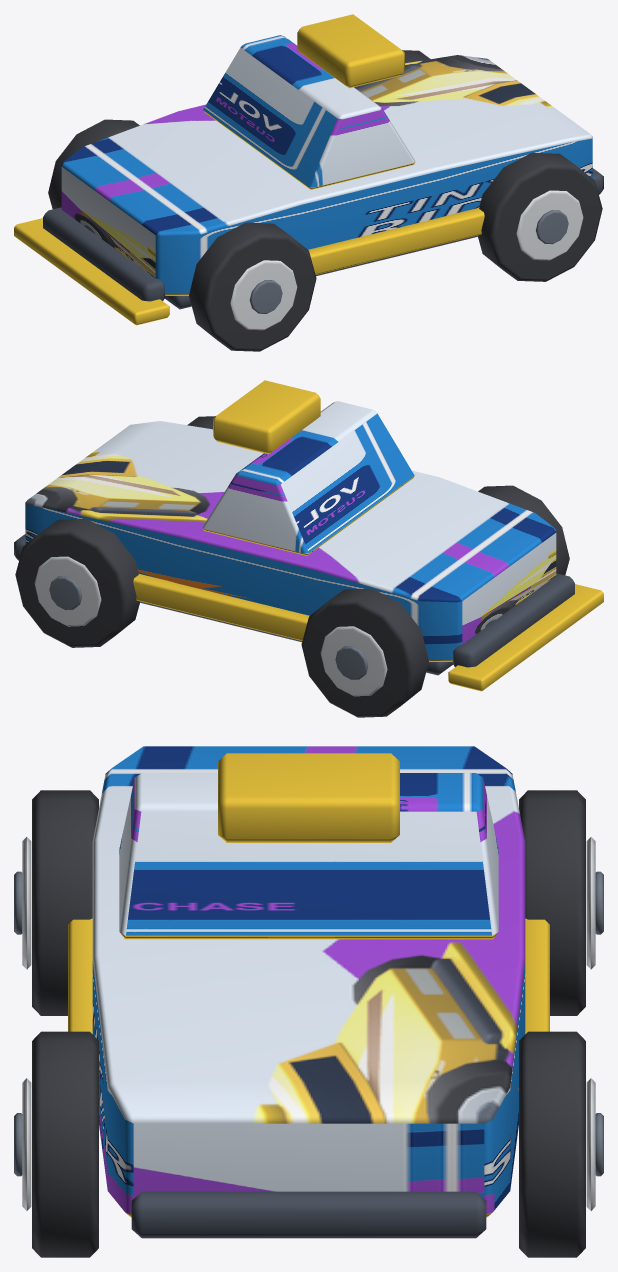
3 renders of one model, top to bottom at view 1: azimuth 30°, elevation 25°; view 2: azimuth 150°, elevation 25°; view 3: azimuth 270°, elevation 25°, orthographic. The views are drawn at different scales.
Parts seen in each view (by area): view 1: FF-03_connected_shell, FF-03_cabin, Tire, Tire.002, custom equipment, custom side guard, custom chin, front bumper, Rim.002, Rim, Tire.001, Hub.002 (+2 smaller); view 2: FF-03_connected_shell, FF-03_cabin, Tire.001, Tire.003, custom equipment, custom side guard.001, custom chin, front bumper, Rim.003, Rim.001, Tire, Hub.003 (+2 smaller); view 3: FF-03_connected_shell, FF-03_cabin, rear bumper, custom equipment, Tire.002, Tire.003, Tire, Tire.001, custom side guard, custom side guard.001, Rim.002, Rim.003 (+2 smaller).
Boxes of the visible parts, <box> form: FF-03_connected_shell: <box>61,55,592,295</box>; FF-03_cabin: <box>203,35,415,189</box>; Tire: <box>189,222,316,351</box>; Tire.002: <box>477,152,602,281</box>; custom equipment: <box>297,14,404,88</box>; custom side guard: <box>308,208,484,274</box>; custom chin: <box>14,218,169,325</box>; front bumper: <box>43,207,165,301</box>; Rim.002: <box>516,190,583,260</box>; Rim: <box>230,260,297,330</box>; Tire.001: <box>48,119,139,209</box>; Hub.002: <box>535,210,568,244</box>; FF-03_connected_shell: <box>25,421,556,661</box>; FF-03_cabin: <box>202,401,414,555</box>; Tire.001: <box>301,588,428,717</box>; Tire.003: <box>15,518,140,647</box>; custom equipment: <box>213,380,320,454</box>; custom side guard.001: <box>133,574,309,640</box>; custom chin: <box>448,584,603,691</box>; front bumper: <box>452,573,574,667</box>; Rim.003: <box>34,556,101,626</box>; Rim.001: <box>320,626,387,696</box>; Tire: <box>478,485,569,575</box>; Hub.003: <box>49,576,82,610</box>; FF-03_connected_shell: <box>92,746,525,1217</box>; FF-03_cabin: <box>119,773,498,939</box>; rear bumper: <box>131,1191,486,1238</box>; custom equipment: <box>218,753,399,842</box>; Tire.002: <box>32,1031,98,1257</box>; Tire.003: <box>519,1031,585,1257</box>; Tire: <box>32,790,98,1015</box>; Tire.001: <box>519,790,585,1015</box>; custom side guard: <box>68,918,92,1033</box>; custom side guard.001: <box>525,918,549,1033</box>; Rim.002: <box>22,1078,31,1210</box>; Rim.003: <box>586,1078,595,1210</box>.
Bounding box in the file's own units: 373 × 160 × 229.
